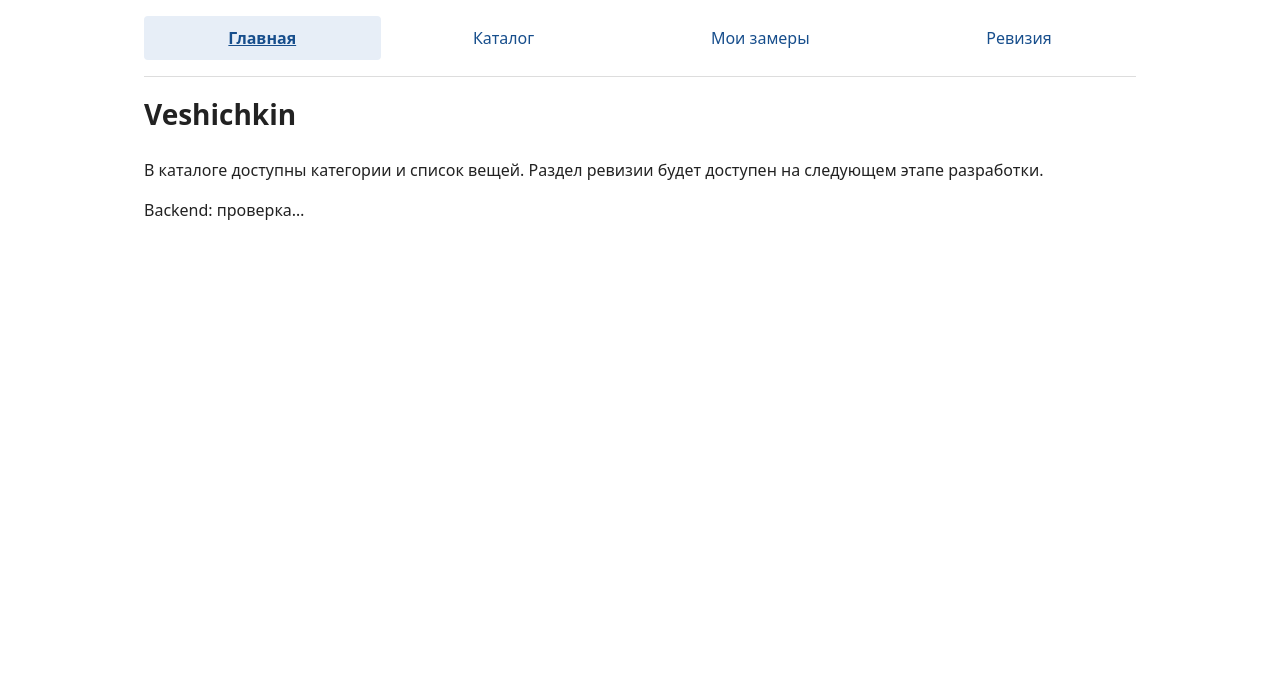
Test: application shell › mounts with navigation links and changes the active view
This screenshot has width=1280, height=692.
Check: the heading "Veshichkin" is shown, box [144,95,296,133]
Click the link to "/catalog". click: (504, 38)
box: [473,27,534,49]
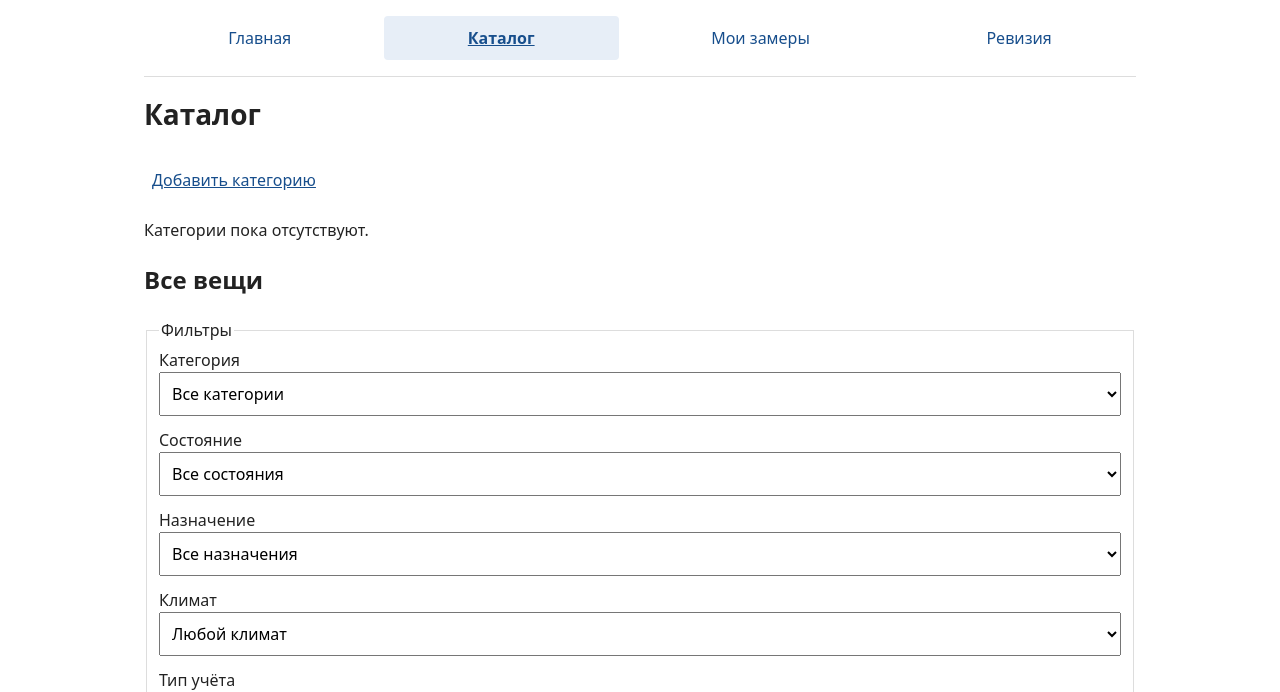
Check: the heading "Каталог" is shown, box [144,95,261,133]
Click the link to "/profile/measurements". click: (761, 38)
box: [711,27,810,49]
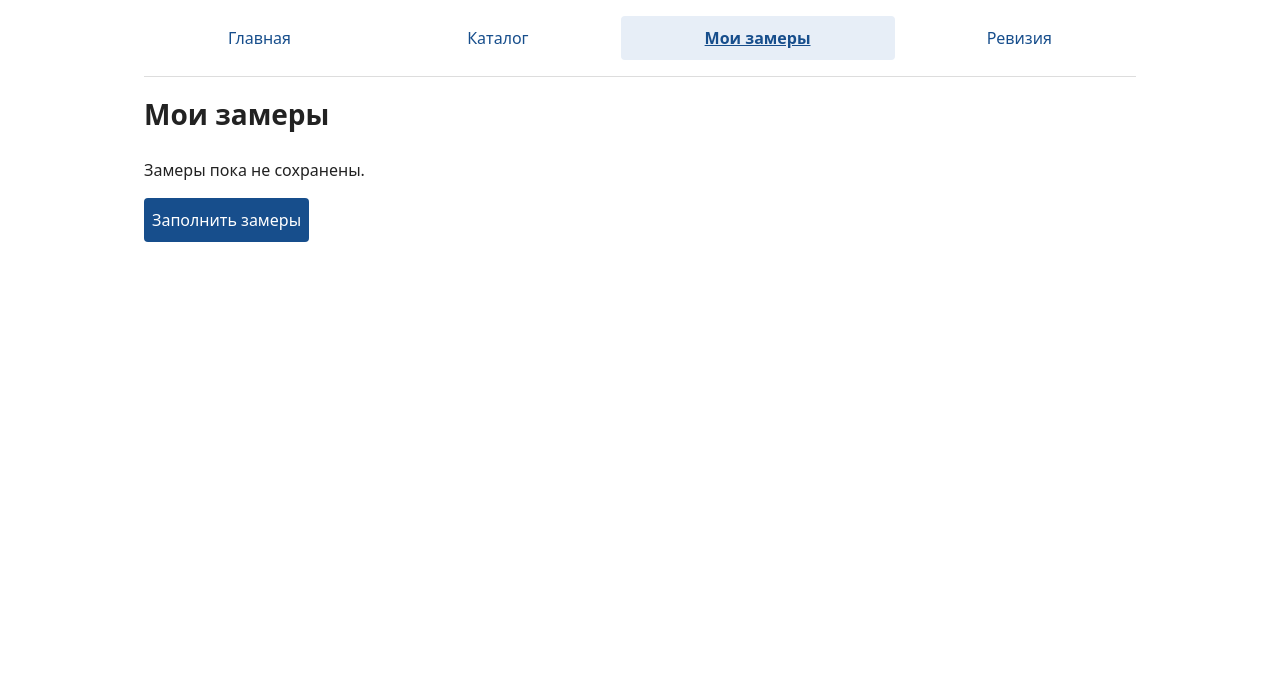
Check: the heading "Мои замеры" is shown, box [144,95,329,133]
Click the link to "/revision". click: (1019, 38)
box: [987,27,1052,49]
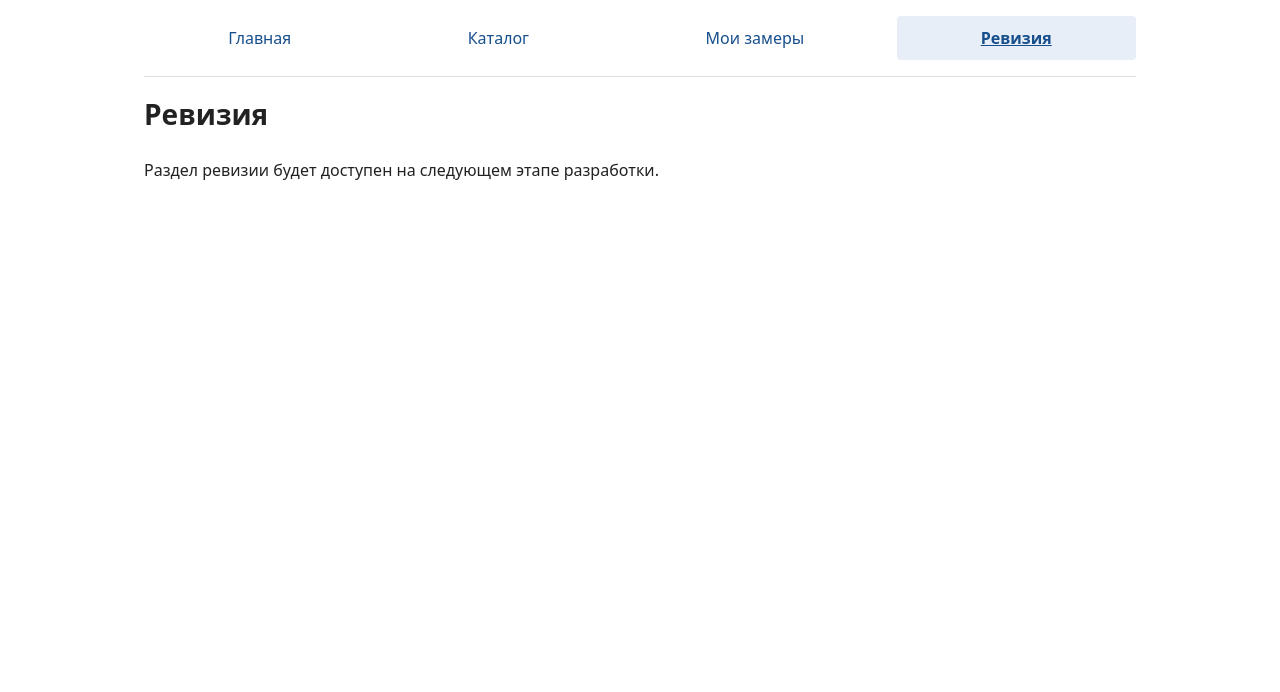
Check: the heading "Ревизия" is shown, box [144,95,268,133]
Click the link to "/". click: (260, 38)
box: [228,27,291,49]
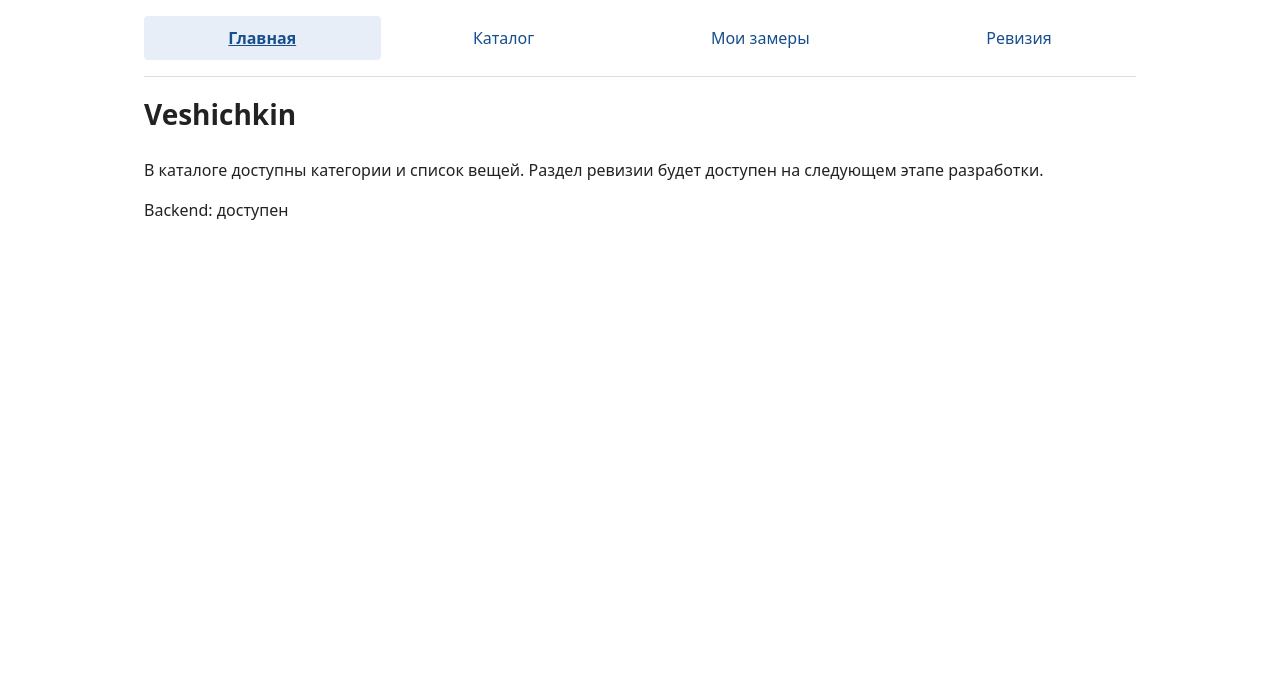
Check: the heading "Veshichkin" is shown, box [144,95,296,133]
